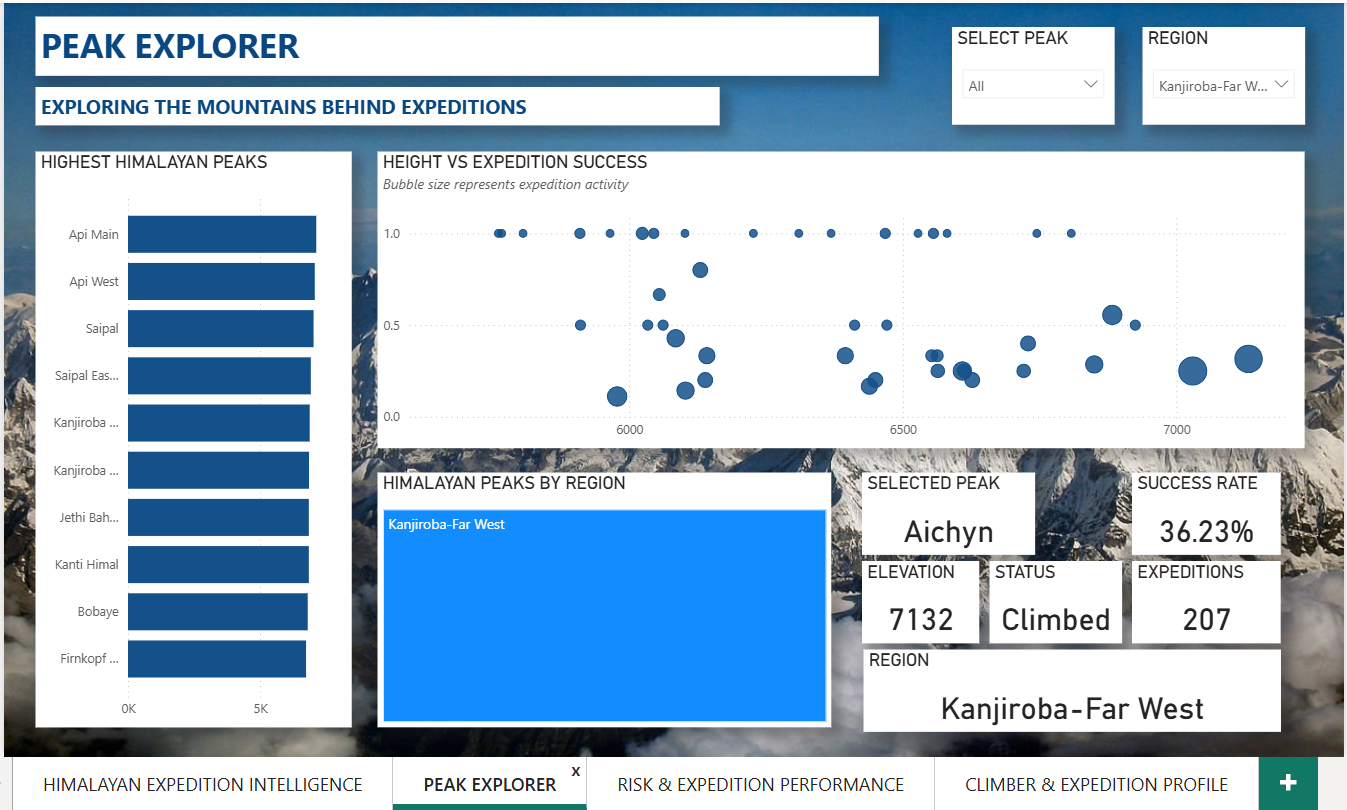

The page's visual inventory and layout, read from the dashboard file:
{"tool":"powerbi","page":{"name":"PEAK EXPLORER","canvas":[1280,720],"ordinal":1},"visuals":[{"type":"textbox","box":[30,13.3,805,56.7],"z":0},{"type":"textbox","box":[30,80,653.3,36.7],"z":1000},{"type":"slicer","title":"SELECT PEAK","fields":{"Values":["peaks.pkname"]},"box":[905,23.3,155,93.3],"z":2000},{"type":"slicer","title":"REGION","fields":{"Values":["peaks.region"]},"box":[1086.7,23.3,155,93.3],"z":3000},{"type":"scatterChart","title":"HEIGHT VS EXPEDITION SUCCESS","fields":{"Size":["Count(exped.expid)"],"X":["peaks.heightm"],"Y":["exped.Success Rate"]},"box":[357.2,141.2,885,283.3],"z":4000},{"type":"treemap","title":"HIMALAYAN PEAKS BY REGION","fields":{"Group":["peaks.region"],"Values":["CountNonNull(peaks.peakid)"]},"box":[357.2,447.9,433.3,243.3],"z":5000},{"type":"clusteredBarChart","title":"HIGHEST HIMALAYAN PEAKS","fields":{"Category":["peaks.pkname"],"Y":["Max(peaks.heightm)"]},"box":[30.5,141.2,301.7,550],"z":6000},{"type":"card","title":"SELECTED PEAK","fields":{"Values":["Min(peaks.pkname)"]},"box":[818.8,447.9,165,78.3],"z":7000},{"type":"card","title":"ELEVATION","fields":{"Values":["Max(peaks.heightm)"]},"box":[818.8,532.9,111.7,78.3],"z":8000},{"type":"card","title":"STATUS","fields":{"Values":["Min(peaks.pstatus)"]},"box":[940.5,532.9,126.7,78.3],"z":9000},{"type":"card","title":"SUCCESS RATE","fields":{"Values":["exped.Success Rate"]},"box":[1077.2,447.9,141.7,78.3],"z":10000},{"type":"card","title":"EXPEDITIONS","fields":{"Values":["Count(exped.expid)"]},"box":[1077.2,532.9,141.7,78.3],"z":11000},{"type":"card","title":"REGION","fields":{"Values":["Min(peaks.region)"]},"box":[820.5,617.9,398.3,78.3],"z":12000}]}

Visuals, with their boxes in screenshot pixels (x1, y1, x2, y2):
textbox: rect(35, 17, 870, 76)
textbox: rect(35, 87, 713, 125)
"SELECT PEAK" slicer: rect(943, 28, 1104, 125)
"REGION" slicer: rect(1131, 28, 1292, 125)
"HEIGHT VS EXPEDITION SUCCESS" scatterChart: rect(374, 150, 1293, 444)
"HIMALAYAN PEAKS BY REGION" treemap: rect(374, 468, 824, 721)
"HIGHEST HIMALAYAN PEAKS" clusteredBarChart: rect(35, 150, 348, 721)
"SELECTED PEAK" card: rect(853, 468, 1024, 550)
"ELEVATION" card: rect(853, 557, 969, 638)
"STATUS" card: rect(980, 557, 1111, 638)
"SUCCESS RATE" card: rect(1121, 468, 1268, 550)
"EXPEDITIONS" card: rect(1121, 557, 1268, 638)
"REGION" card: rect(855, 645, 1268, 726)
